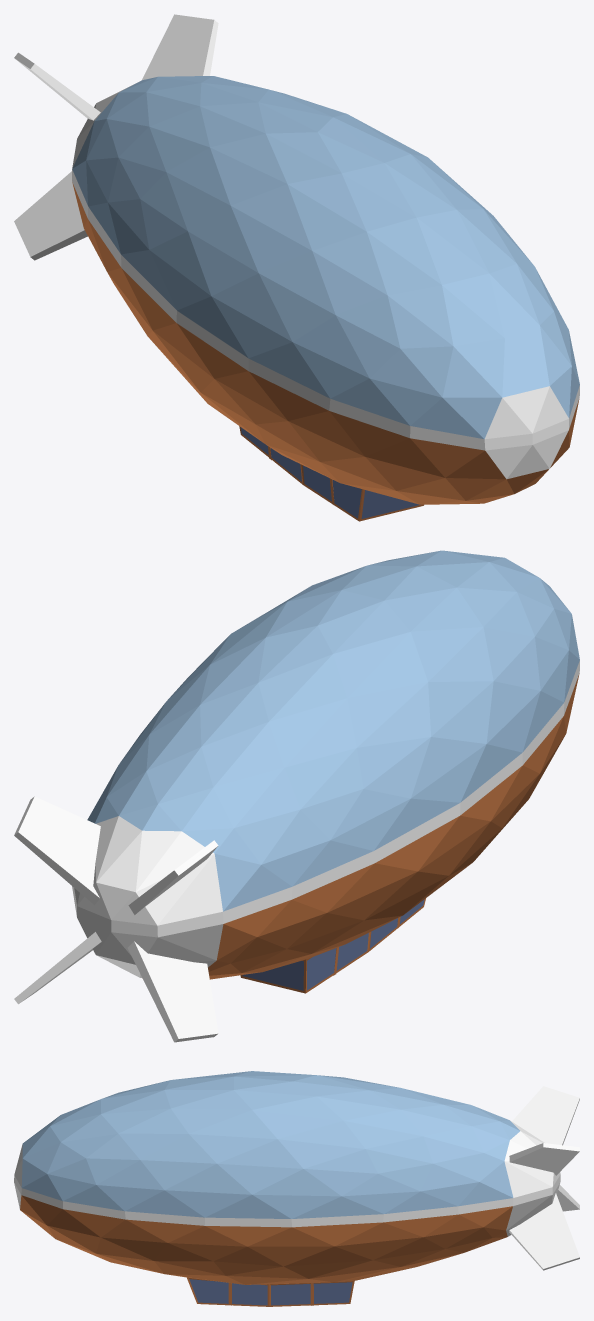
Rendered from transport_air_010.fbx.
3 views of the same model, one above another, from view 1: azimuth 30°, elevation 25°; view 2: azimuth 150°, elevation 25°; view 3: azimuth 270°, elevation 25° (orthographic). The views are drawn at different scales.
Visible parts, largest first — view 1: transport_air_010; view 2: transport_air_010; view 3: transport_air_010.
Part boxes in pixels (x1=…): transport_air_010: x1=14, y1=14, x2=579, y2=521; transport_air_010: x1=14, y1=550, x2=579, y2=1042; transport_air_010: x1=14, y1=1071, x2=579, y2=1306.
Bounding box in the file's own units: 1058 × 1184 × 2822.
